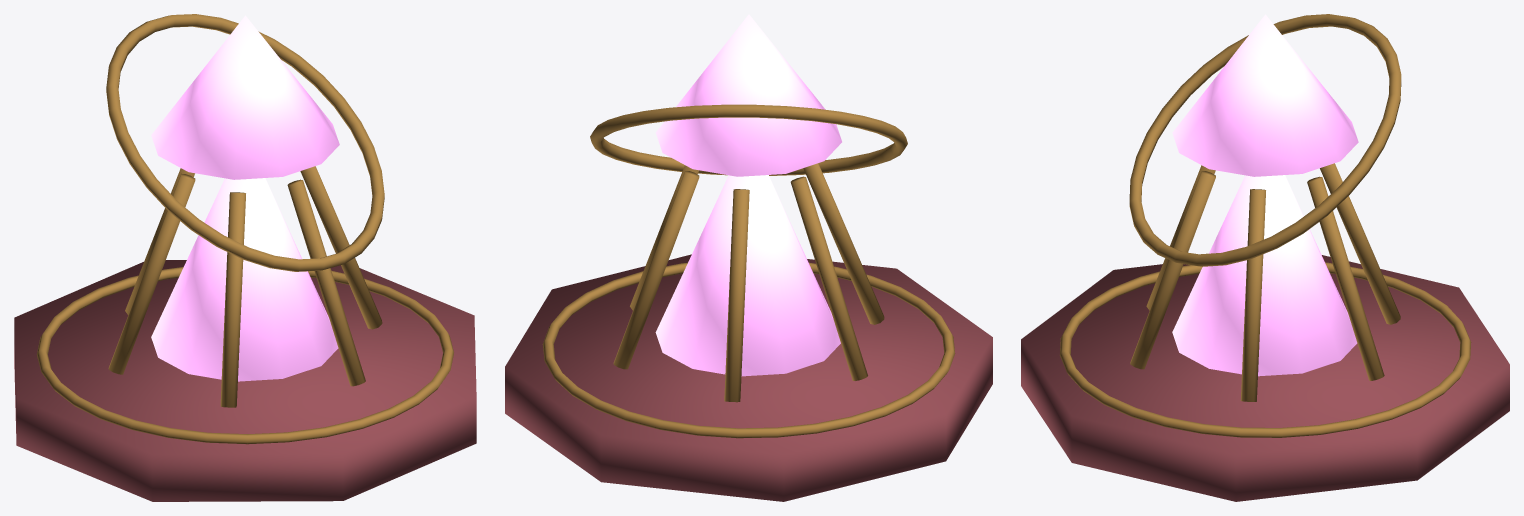
3 views of the same model, side by side, from view 1: azimuth 30°, elevation 25°; view 2: azimuth 150°, elevation 25°; view 3: azimuth 270°, elevation 25° (orthographic).
Parts seen in each view (by area): view 1: Hexagonal plinth, Lower crystal, Upper crystal, Orbit, Inlaid rim, Brass setting.005, Brass setting.004, Brass setting.003, Brass setting, Brass setting.002; view 2: Hexagonal plinth, Lower crystal, Upper crystal, Inlaid rim, Orbit, Brass setting.002, Brass setting.003, Brass setting.001, Brass setting.004, Brass setting; view 3: Hexagonal plinth, Lower crystal, Upper crystal, Orbit, Inlaid rim, Brass setting, Brass setting.001, Brass setting.005, Brass setting.002, Brass setting.004.
Boxes of the visible parts, x1,y1,x2,y2 form: Hexagonal plinth: [14, 260, 476, 501]; Lower crystal: [151, 178, 338, 381]; Upper crystal: [151, 15, 339, 179]; Orbit: [106, 14, 384, 271]; Inlaid rim: [37, 267, 453, 444]; Brass setting.005: [287, 179, 365, 386]; Brass setting.004: [220, 192, 245, 407]; Brass setting.003: [108, 173, 195, 374]; Brass setting: [300, 166, 382, 329]; Brass setting.002: [125, 168, 194, 314]; Hexagonal plinth: [505, 254, 992, 501]; Lower crystal: [655, 175, 840, 376]; Upper crystal: [655, 14, 841, 176]; Inlaid rim: [542, 262, 955, 438]; Orbit: [590, 104, 907, 175]; Brass setting.002: [724, 189, 749, 402]; Brass setting.003: [790, 176, 867, 380]; Brass setting.001: [613, 171, 699, 369]; Brass setting.004: [803, 163, 884, 324]; Brass setting: [630, 165, 698, 310]; Hexagonal plinth: [1021, 255, 1509, 501]; Lower crystal: [1172, 175, 1357, 376]; Upper crystal: [1172, 14, 1358, 176]; Orbit: [1129, 14, 1401, 266]; Inlaid rim: [1059, 262, 1471, 437]; Brass setting: [1240, 189, 1265, 401]; Brass setting.001: [1307, 176, 1384, 380]; Brass setting.005: [1130, 171, 1215, 369]; Brass setting.002: [1320, 163, 1400, 324]; Brass setting.004: [1146, 165, 1215, 310].
Size of the model in its own units: 1.51 by 1.31 by 1.51.
